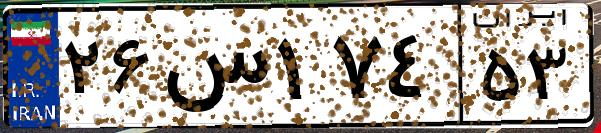1: (270, 28, 330, 110)
2: (57, 26, 110, 100)
3: (525, 38, 570, 115)
4: (385, 28, 445, 110)
5: (475, 38, 525, 113)
6: (110, 28, 158, 98)
7: (330, 28, 385, 110)
س: (158, 20, 270, 120)
